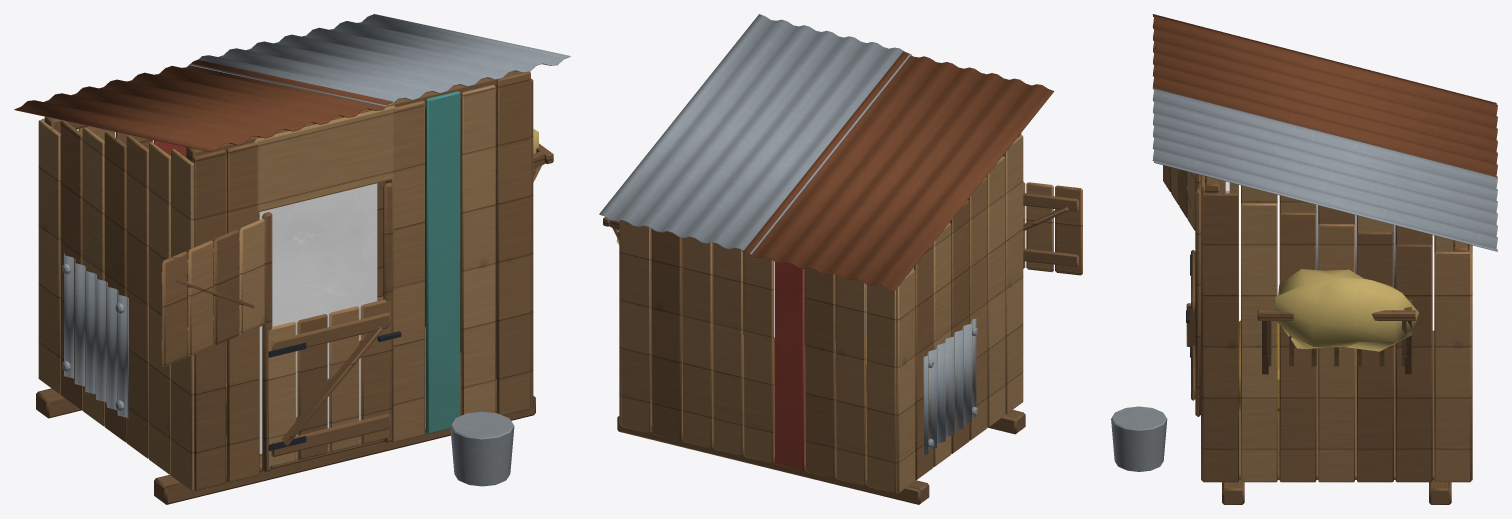
Rendered from goat_shed.glb.
3 views of the same model, side by side, from view 1: azimuth 30°, elevation 25°; view 2: azimuth 150°, elevation 25°; view 3: azimuth 270°, elevation 25° (orthographic). The views are drawn at different scales.
Parts seen in each view (by area): view 1: goat_shed; view 2: goat_shed; view 3: goat_shed.
Boxes of the visible parts, x1=… form: goat_shed: x1=14, y1=14, x2=570, y2=504; goat_shed: x1=599, y1=14, x2=1082, y2=504; goat_shed: x1=1111, y1=14, x2=1497, y2=504.
Bounding box in the file's own units: 2.42 × 2 × 2.06.
19 materials, 19 textured.
